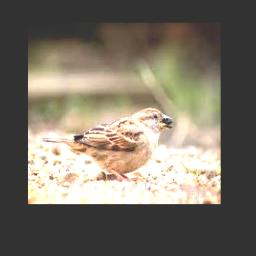Sparrow: (41, 107, 172, 182)
